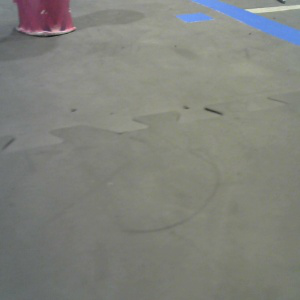middle: (15, 1, 76, 36)
